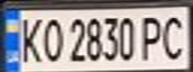0: (118, 12, 139, 62)
2: (63, 14, 87, 63)
3: (103, 14, 121, 62)
8: (84, 14, 106, 63)
C: (157, 11, 190, 61)
K: (15, 13, 45, 64)
O: (36, 13, 66, 64)
P: (136, 12, 169, 62)
